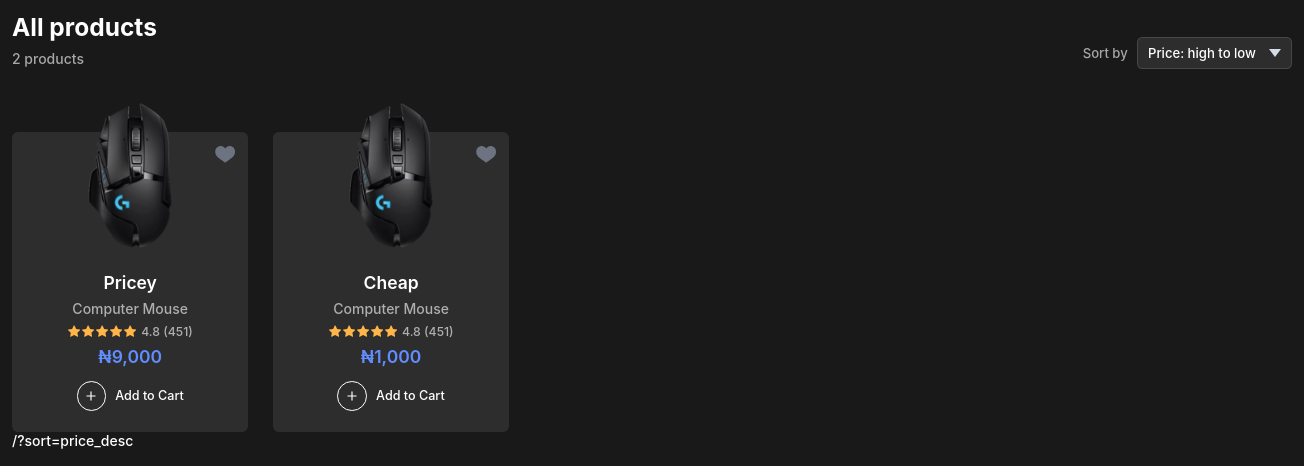
Test case: ProductListing › sorts through the API and keeps the order in the URL
The image size is (1304, 466).
Expected: the link "Pricey" is shown, [104,272,157,293]
Select "Price: low to high" in the dropdown labelled "Sort by" at (1214, 53), box [1136,37,1292,69]
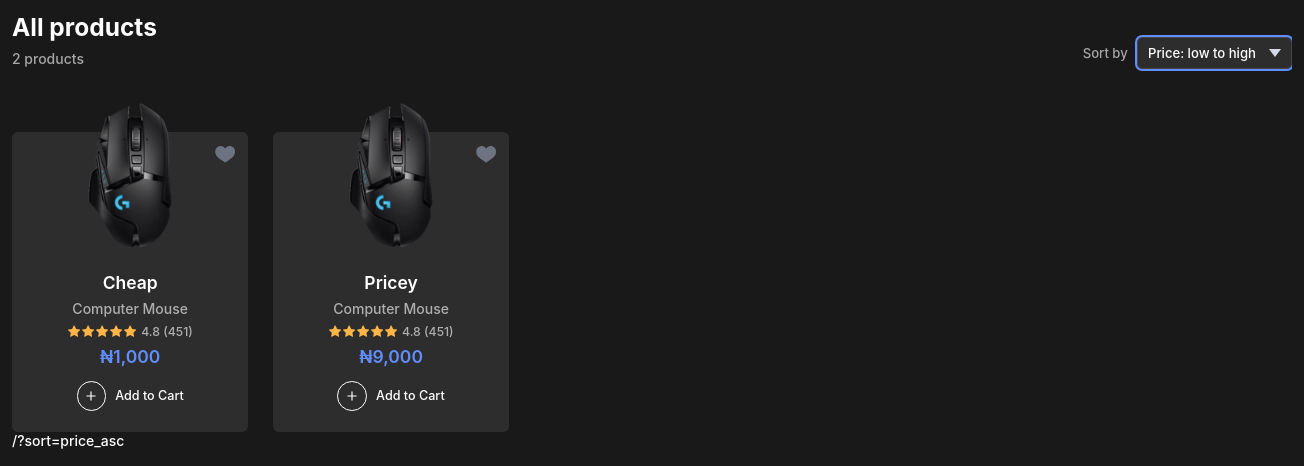
Expected: the text with test id "location" reads "/?sort=price_asc", [12,432,124,449]
